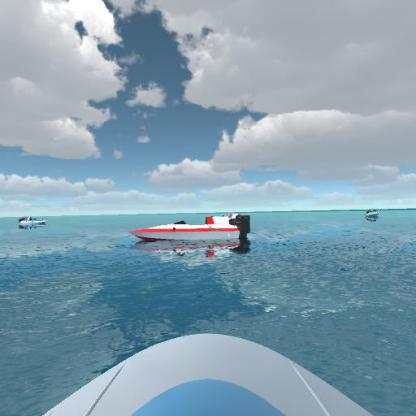usv1: (15, 211, 50, 231), (362, 204, 387, 223)
usv3: (125, 209, 258, 254)
